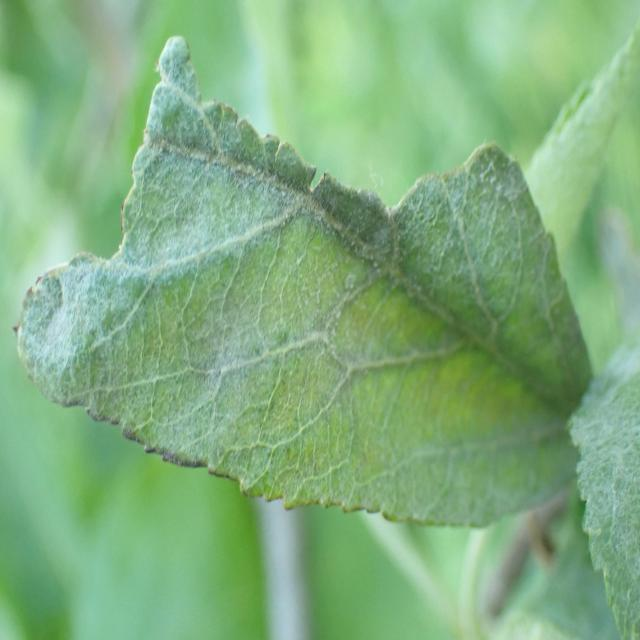Powdery_mildew: (6, 27, 598, 560), (560, 338, 640, 632)
